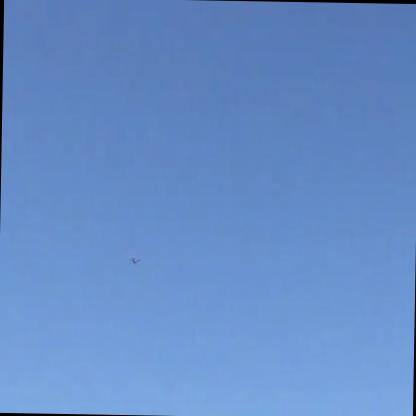plane: (129, 257, 140, 265)
